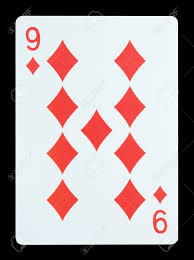nine of diamonds: (14, 15, 179, 244)
